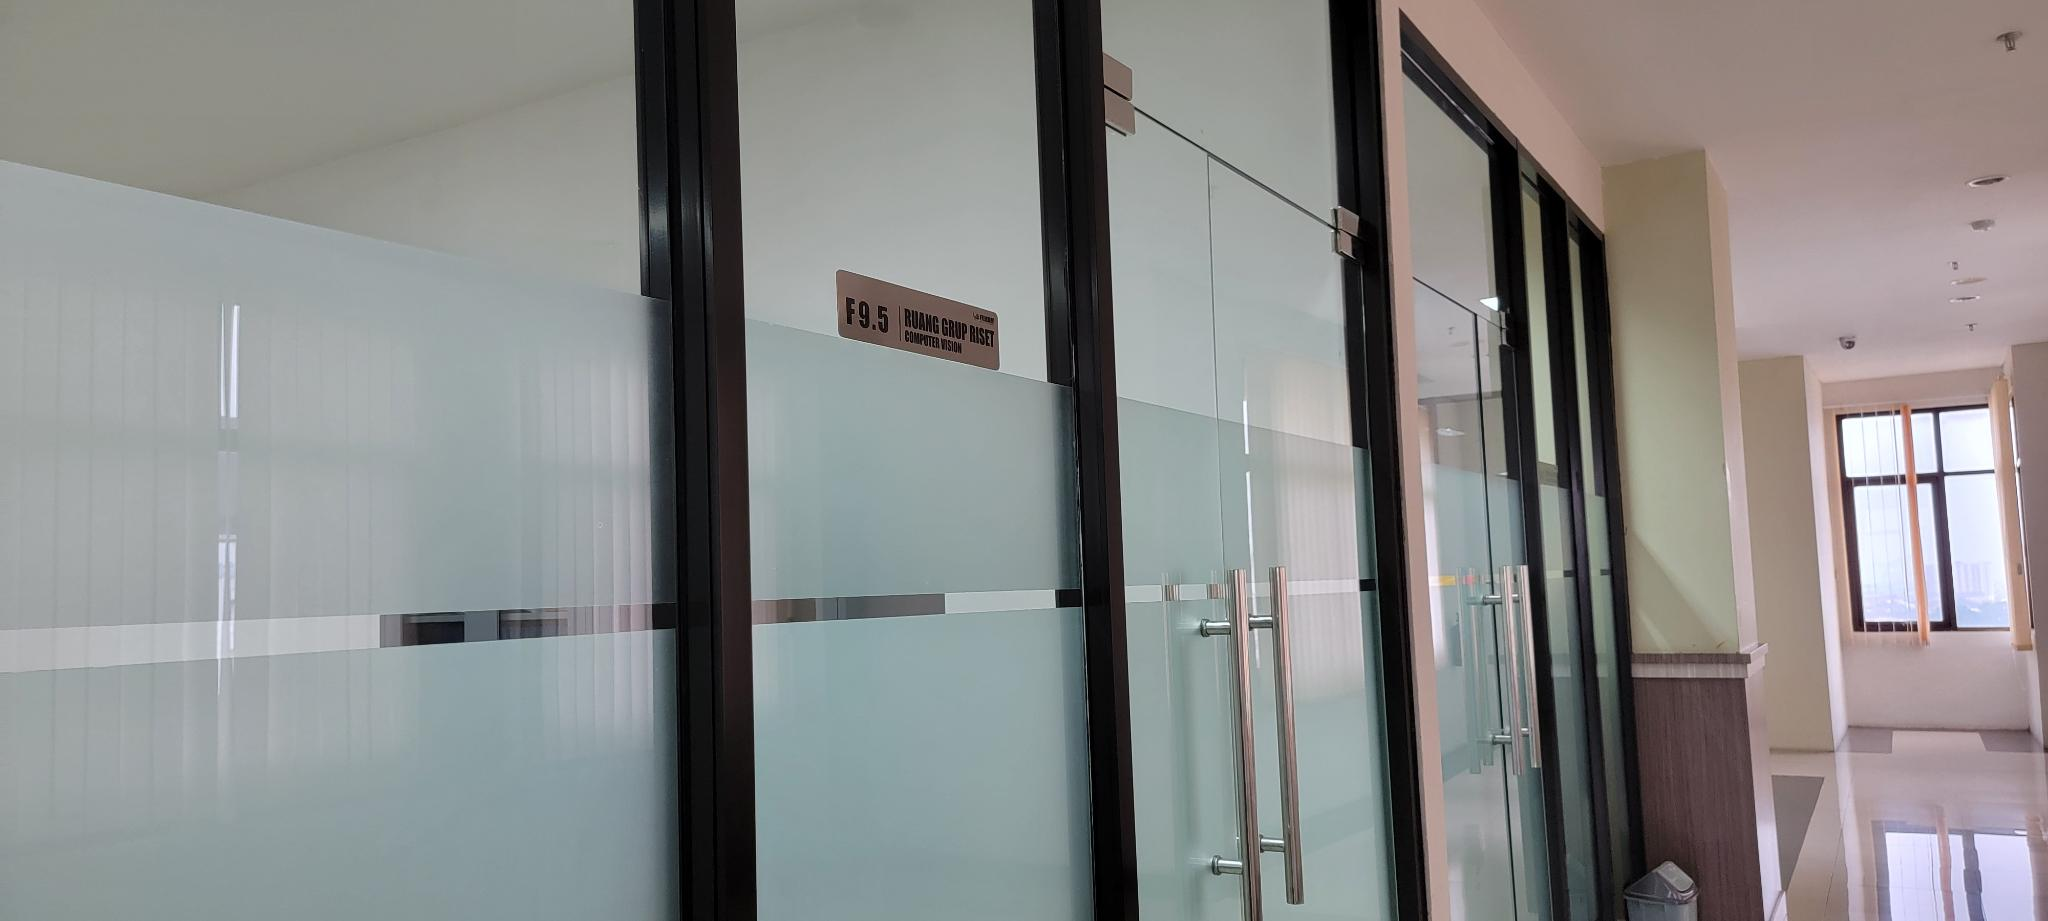plate: (837, 264, 998, 372)
